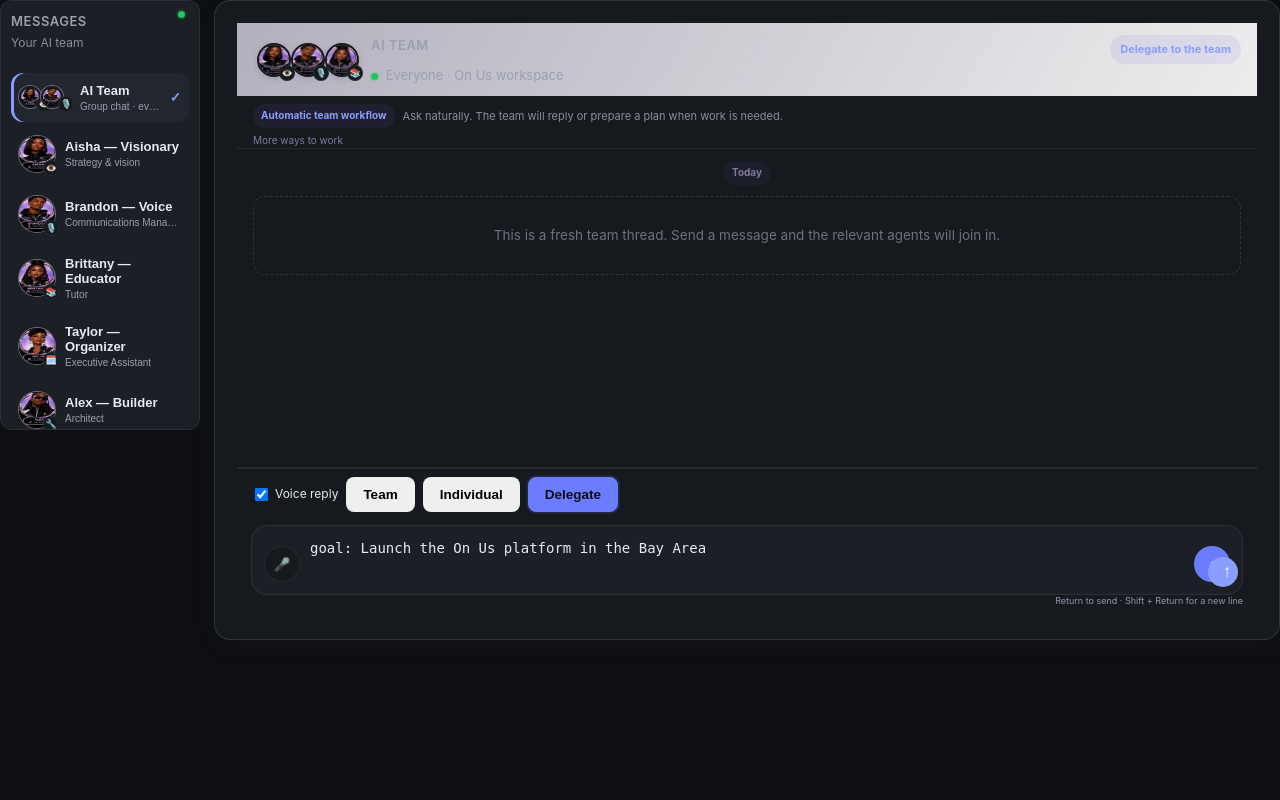
Team Chat (component) › delegates a message into a structured plan (approve/authorize/run stay separate)
Earlier steps of the test are not shown.
Click the button with test id "team-chat-delegate" at (1223, 572), box [1208,557,1238,587]
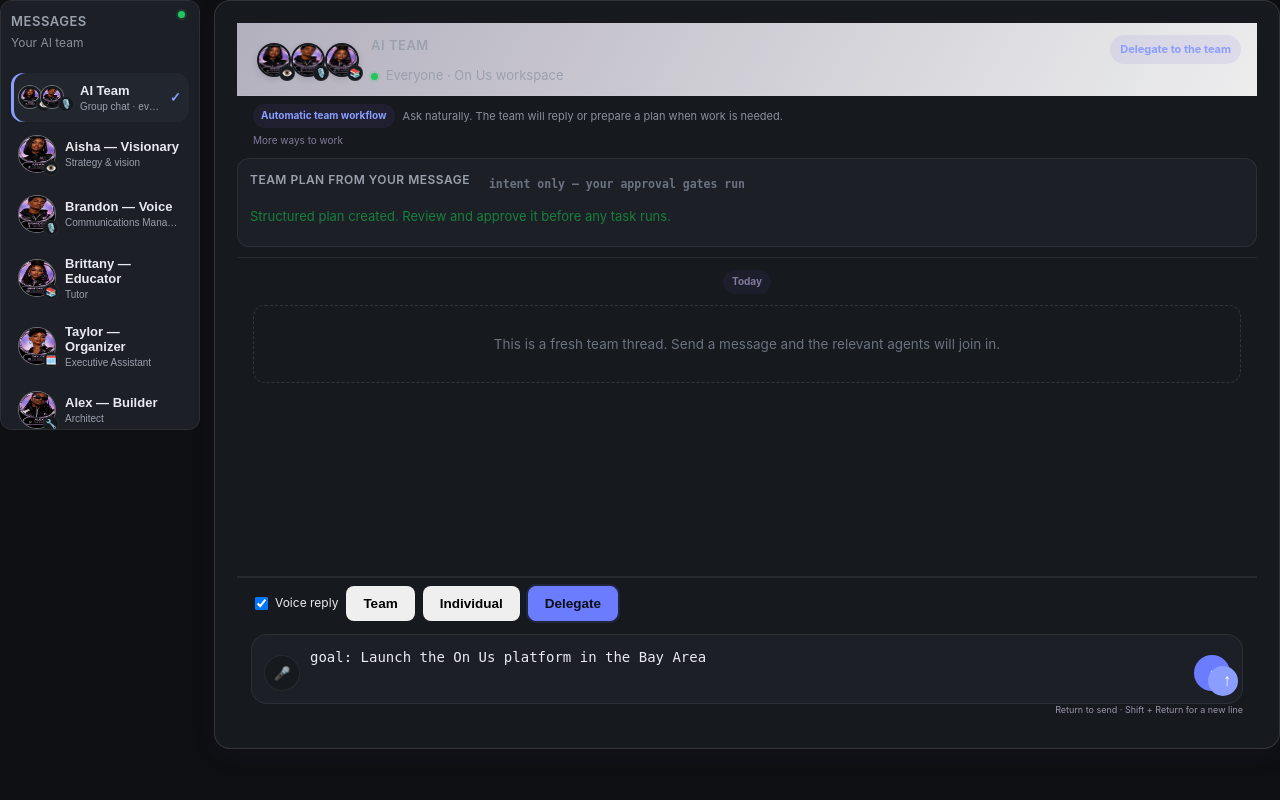
Check: the message with test id "delegate-msg" shows "Structured plan created", box [250,208,671,224]
